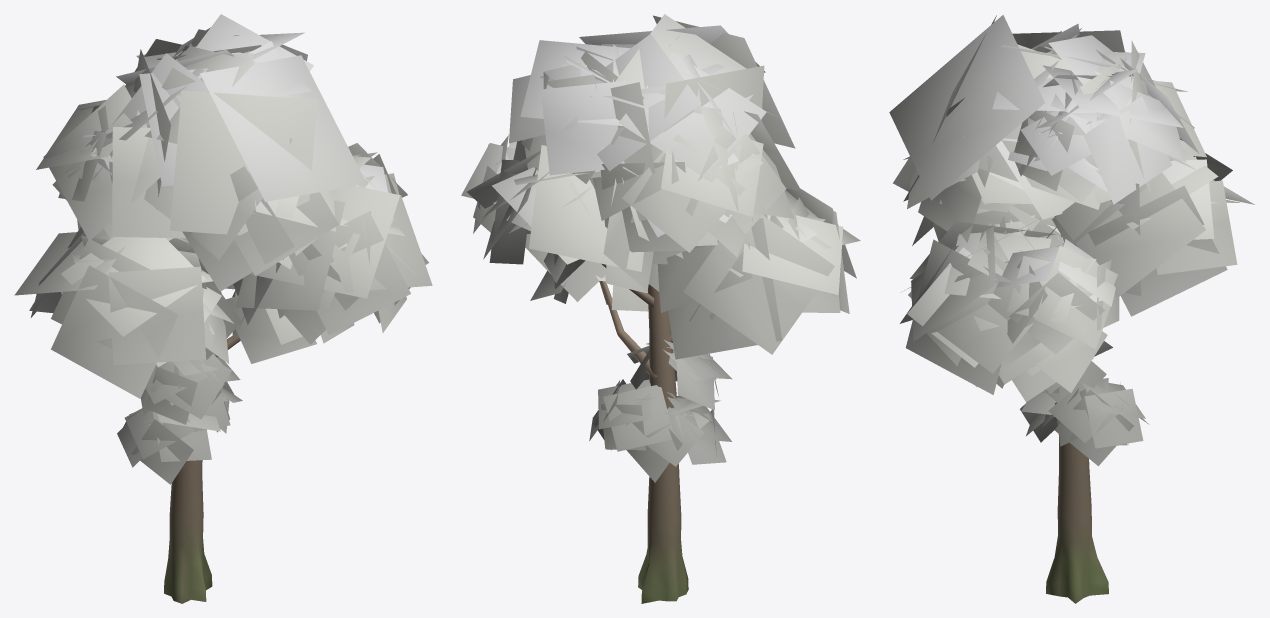
The model's file is jungleA_lod1.glb.
3 views of the same model, side by side, from view 1: azimuth 30°, elevation 25°; view 2: azimuth 150°, elevation 25°; view 3: azimuth 270°, elevation 25° (orthographic). The views are drawn at different scales.
Visible parts, largest first — view 1: jungleA; view 2: jungleA; view 3: jungleA.
Part boxes in pixels (bbox=[...]): jungleA: bbox=[14, 14, 432, 603]; jungleA: bbox=[461, 14, 860, 603]; jungleA: bbox=[889, 15, 1254, 603].
Bounding box in the file's own units: 23.71 × 33.13 × 19.45.
